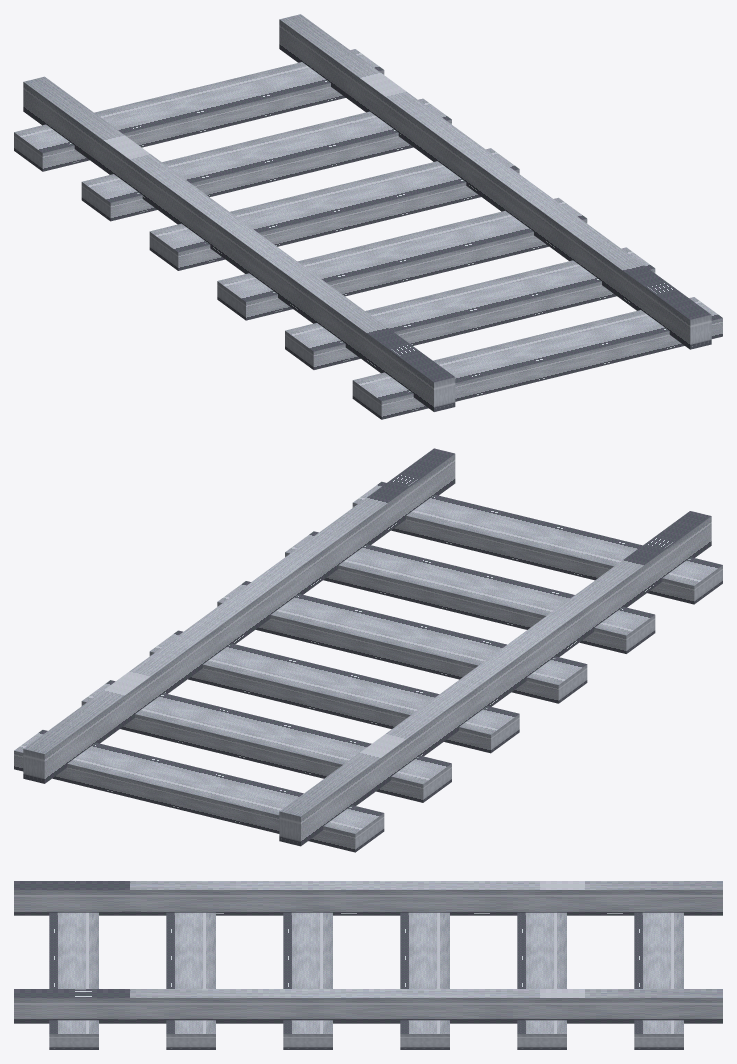
File: trilho_de_mina.glb
3 renders of one model, top to bottom at view 1: azimuth 30°, elevation 25°; view 2: azimuth 150°, elevation 25°; view 3: azimuth 270°, elevation 25°, orthographic. The views are drawn at different scales.
Visible parts, largest first — view 1: trilho_de_mina; view 2: trilho_de_mina; view 3: trilho_de_mina.
Boxes of the visible parts, x1,y1,x2,y2 form: trilho_de_mina: (14, 14, 722, 419); trilho_de_mina: (14, 448, 722, 852); trilho_de_mina: (14, 881, 722, 1049).
Size of the model in its own units: 0.96 by 0.12 by 2.
Materials: 1 (1 with a texture image).
